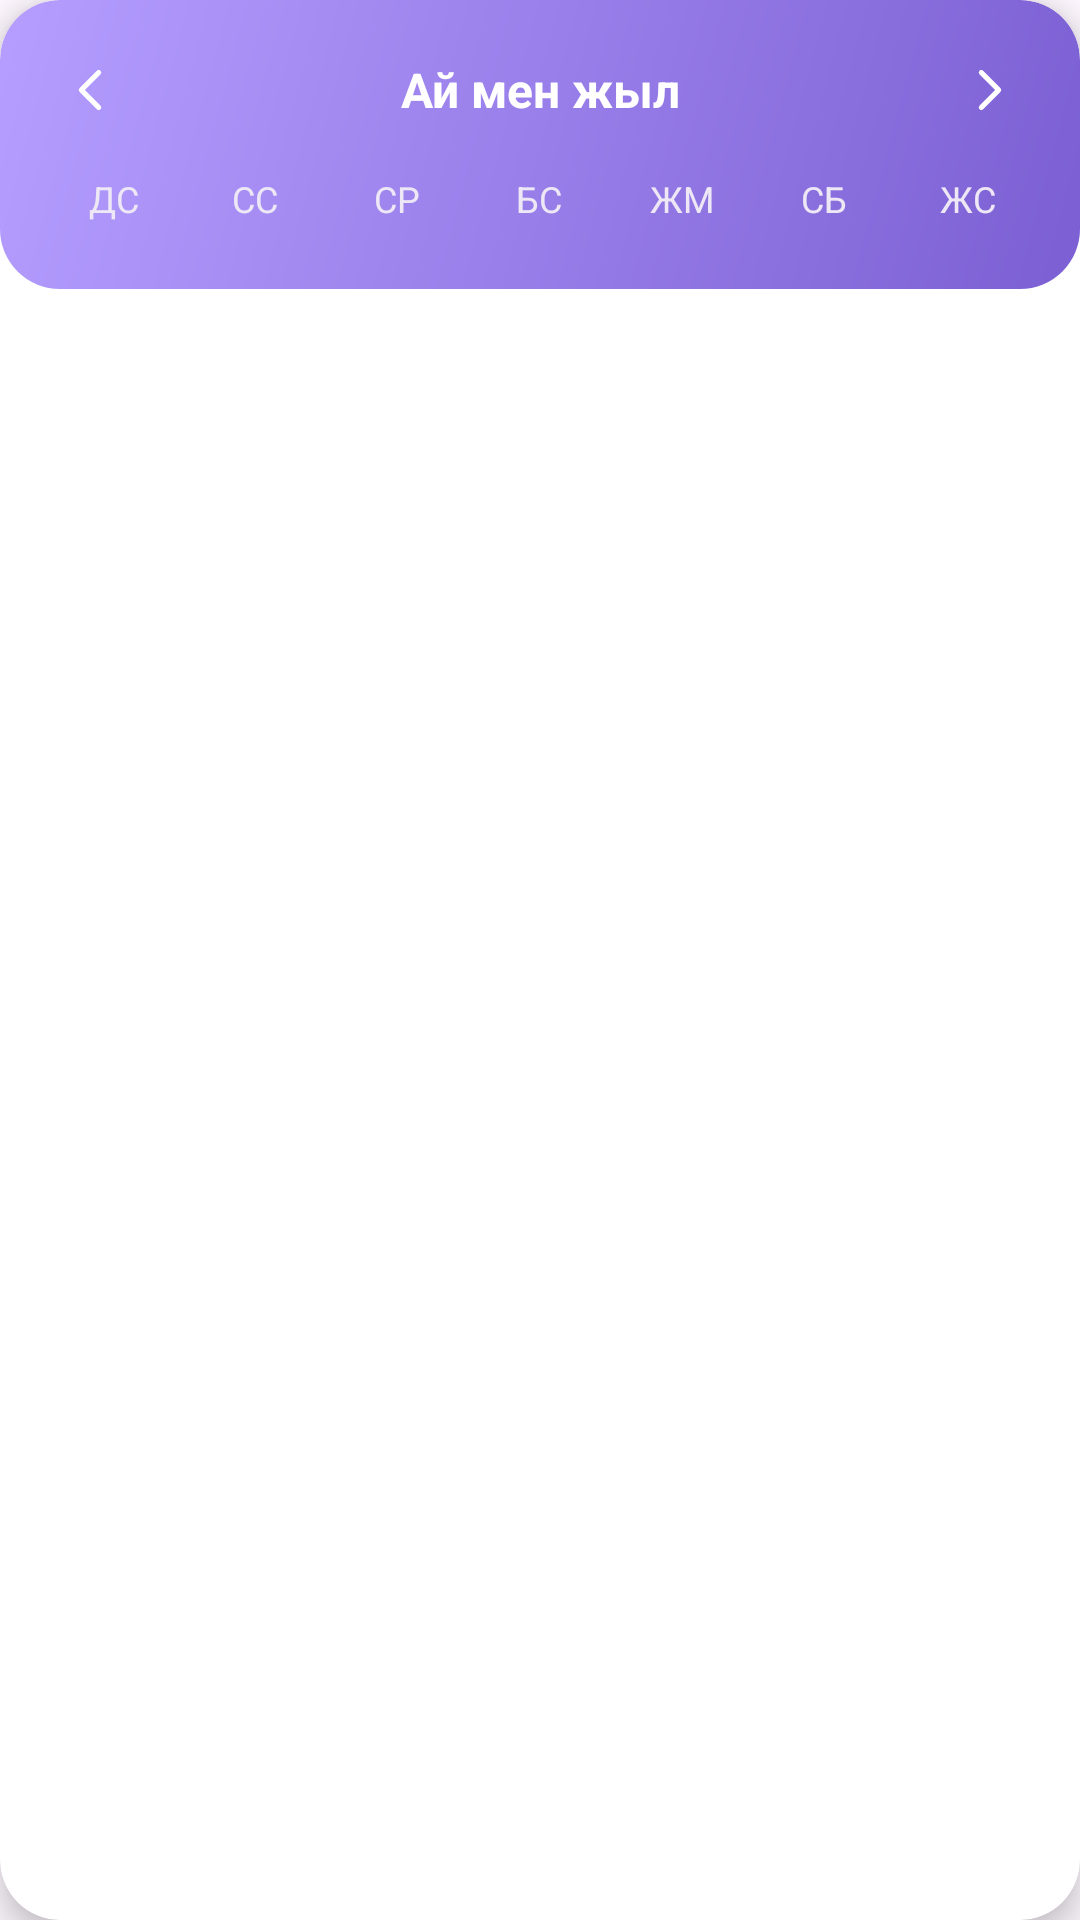

Screen size 1080x1920. Icon name, then its center in pixels as point (x, y):
chevron left: point (90, 90)
chevron right: point (989, 90)
